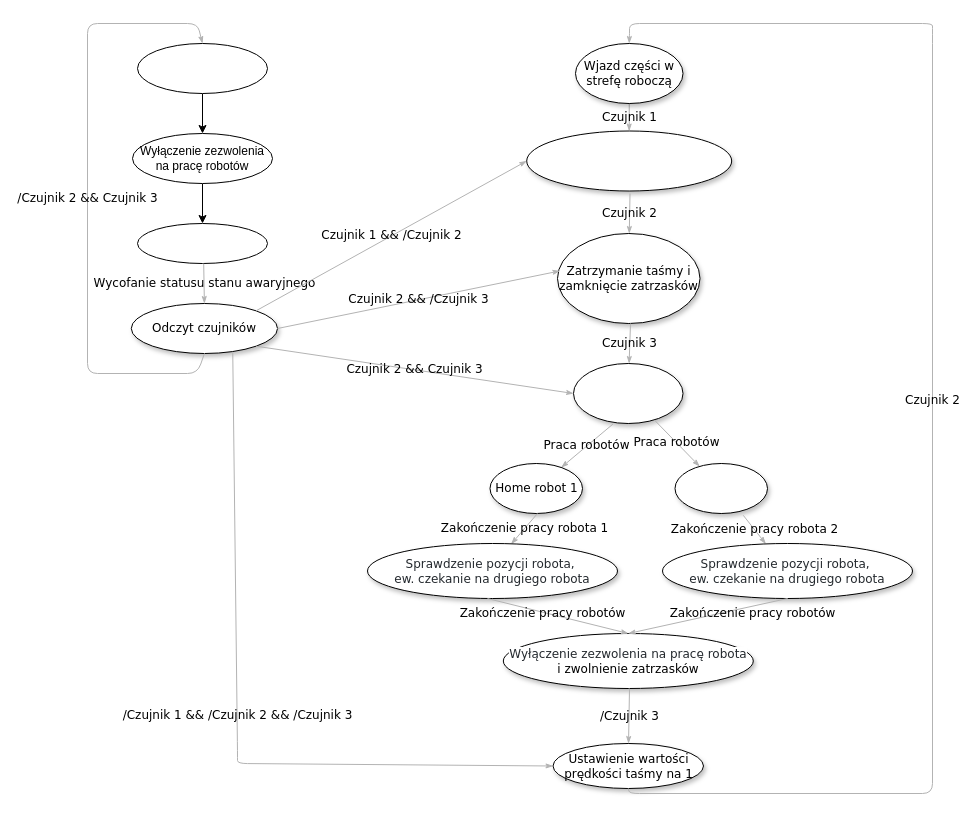
This 977x818 diagram has some shape labels left out. The centre of each missing label's shape, as x and y in pixels:
"Cykl bezpieczeństwa" goes at point (202, 68).
"Home robot 2" goes at point (722, 489).
"Ustawienie wartości prędkości taśmy na 0.5" goes at point (630, 162).
"Zatrzymanie pracy robotów i/lub taśmy" goes at point (202, 243).
"Zezwolenie na pracę robotów" goes at point (628, 394).
